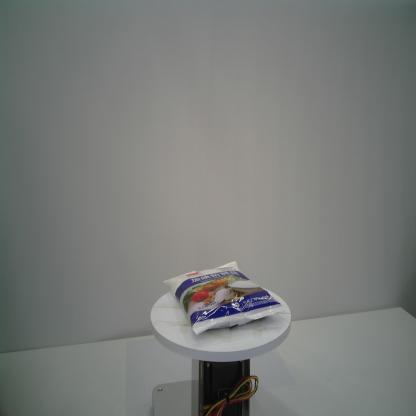Seasoner: (160, 258, 285, 338)
